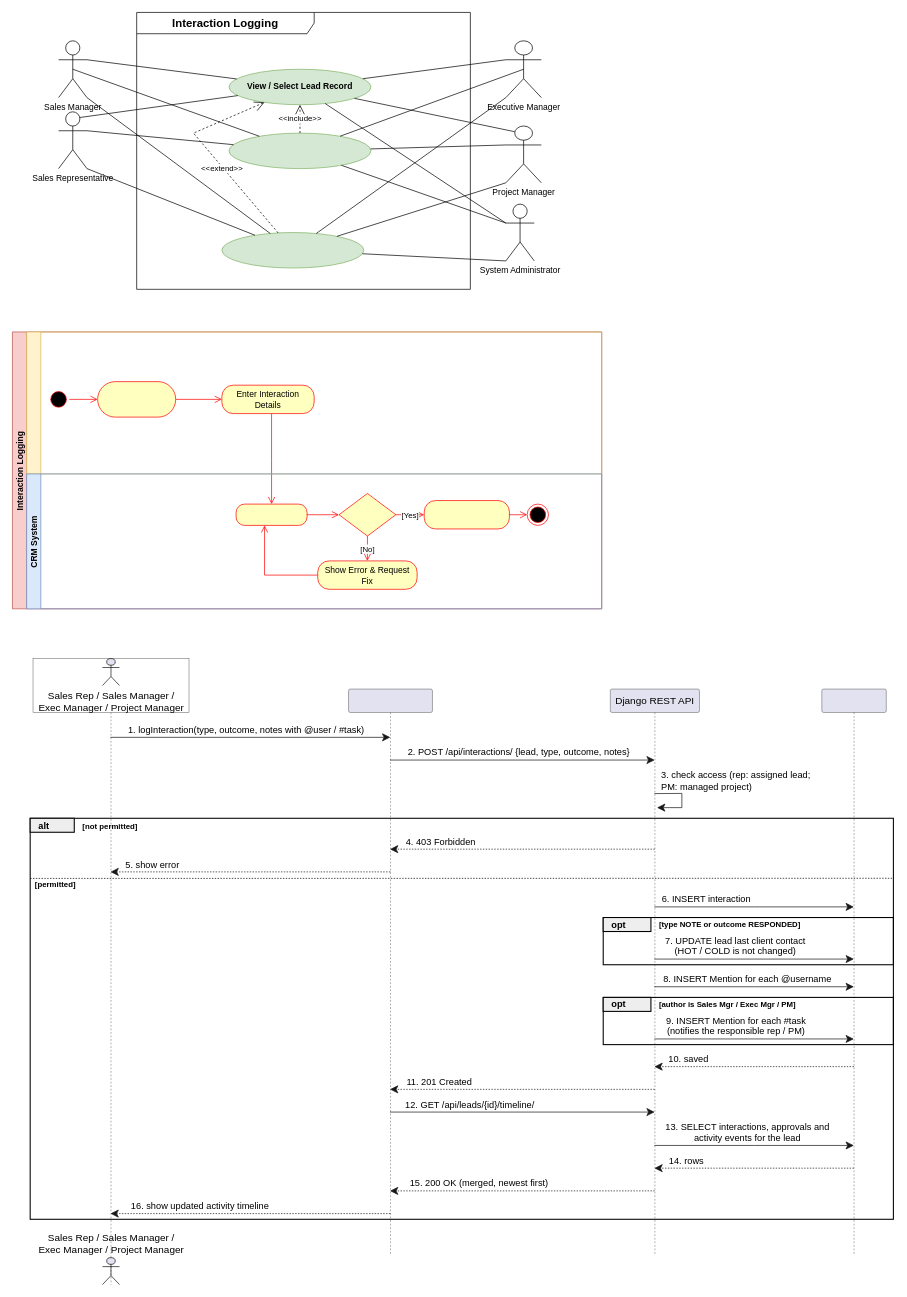
The diagram is 907 pixels wide and 1297 high, and some of its shapes have lost their labels. The box of each missing label's shape, as (x1, y1, x2, y2) in pixels:
Authorised CRM User: (26, 331, 602, 474)
Browser (React): (348, 689, 432, 1254)
Data Valid?: (338, 493, 396, 536)
Log Customer Interaction: (228, 132, 371, 169)
PostgreSQL: (821, 689, 886, 1254)
Save Interaction & Update History: (424, 500, 509, 529)
Select Customer / Lead: (97, 381, 176, 417)
Validate Required Details: (235, 503, 307, 525)
View Activity Timeline: (221, 232, 364, 268)
